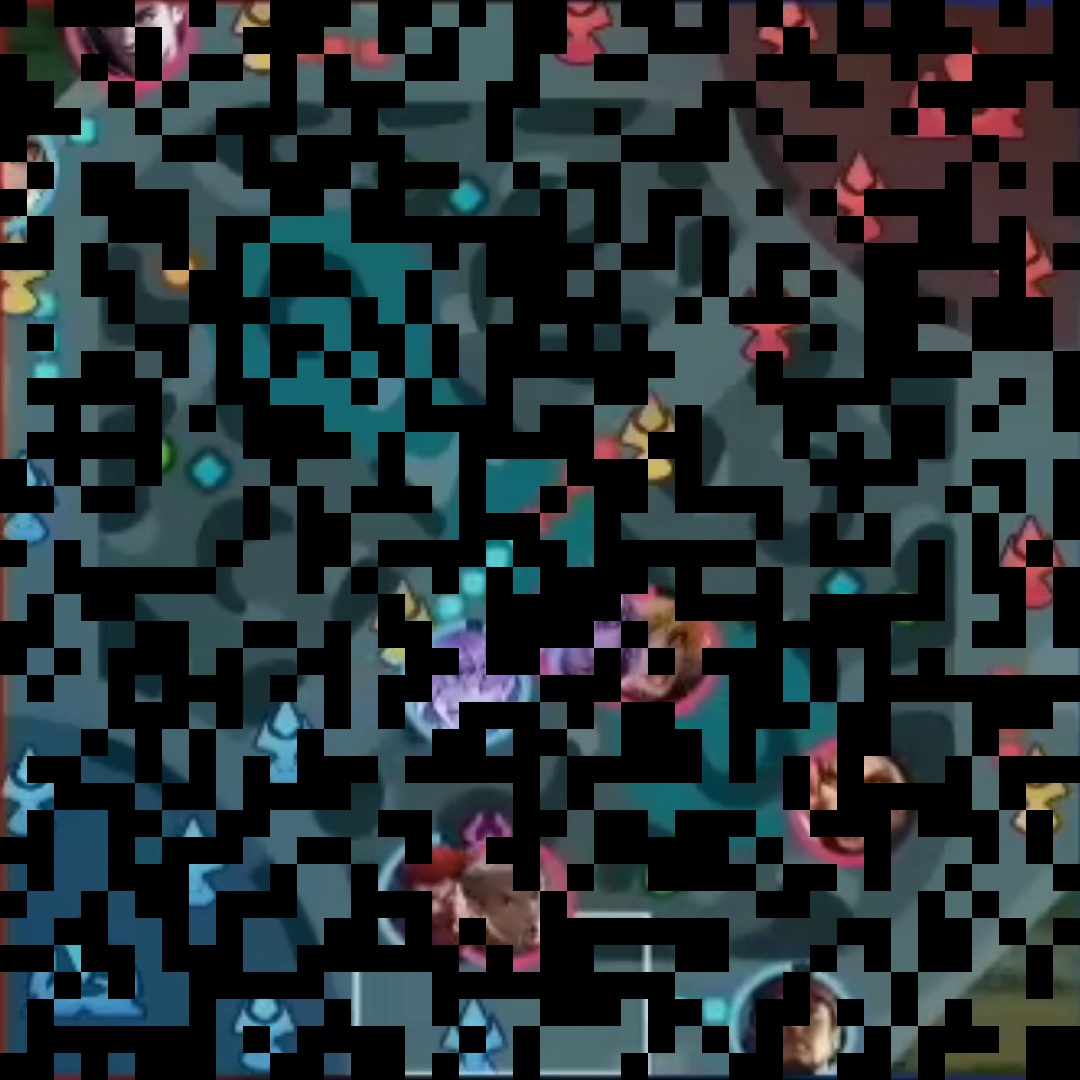Chou: (458, 852, 568, 956)
Claude: (83, 1, 187, 72)
Fanny: (642, 588, 709, 711)
Lapu-Lapu: (741, 968, 847, 1072)
Masha: (797, 742, 909, 857)
Minotaur: (389, 852, 466, 957)
Novaria: (413, 637, 525, 731)
Valentina: (541, 584, 644, 692)
Wanwan: (2, 102, 58, 232)
